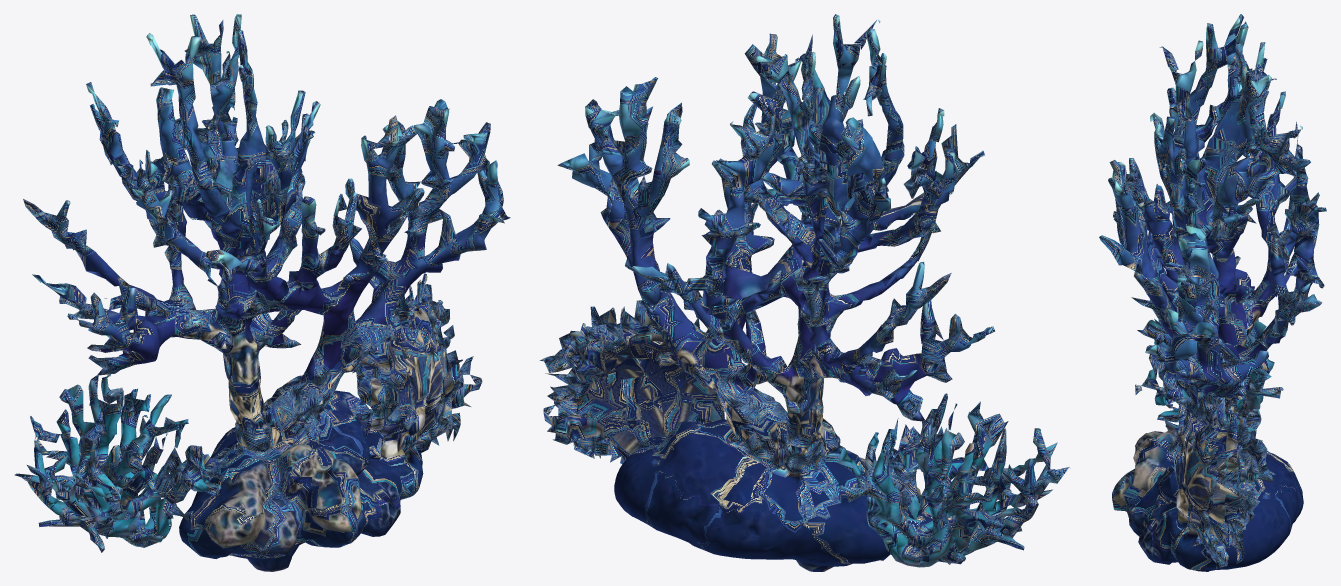
File: auricCoral.glb
3 views of the same model, side by side, from view 1: azimuth 30°, elevation 25°; view 2: azimuth 150°, elevation 25°; view 3: azimuth 270°, elevation 25° (orthographic). The views are drawn at different scales.
Bounding box in the file's own units: 1.72 × 1.9 × 0.7966.
Materials: 1 (1 with a texture image).
